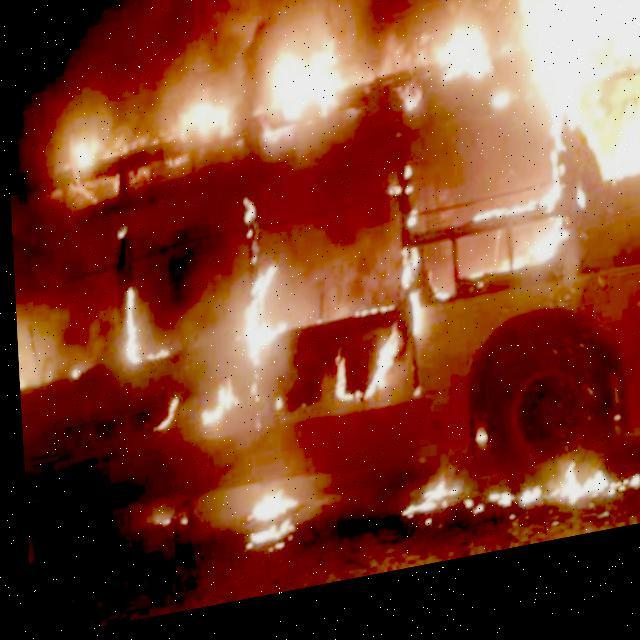Fire: (48, 0, 639, 599)
